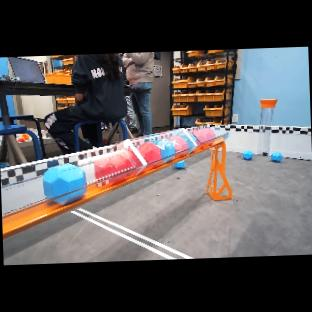V5_BLUE: (271, 152, 283, 162), (243, 150, 253, 160), (174, 160, 185, 169), (167, 241, 171, 243)
blueingoal: (43, 163, 86, 206), (154, 140, 177, 159), (169, 134, 194, 148), (189, 133, 197, 142)
redingoal: (95, 148, 143, 187), (138, 146, 165, 173), (190, 128, 215, 146), (169, 135, 193, 153)
